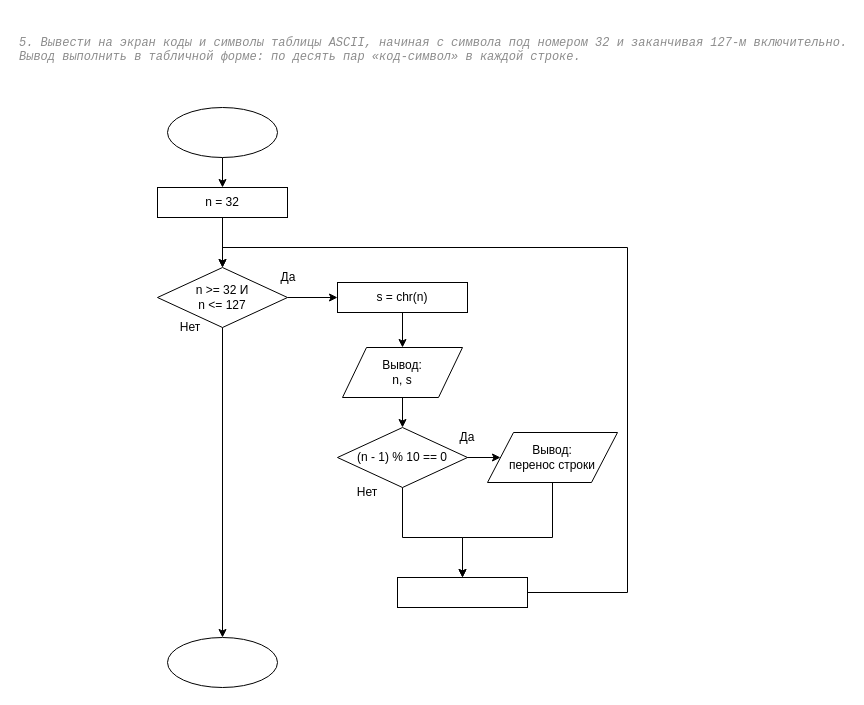
The diagram is 864 pixels wide and 705 high, and some of its shapes have lost their labels. The shapes that lost their labels are listed below. From the top down, each one's box as (x1, y1, x2, y2) in pixels, then its label:
(166, 106, 278, 158): Начало
(396, 576, 528, 608): n += 1
(166, 636, 278, 688): Конец
